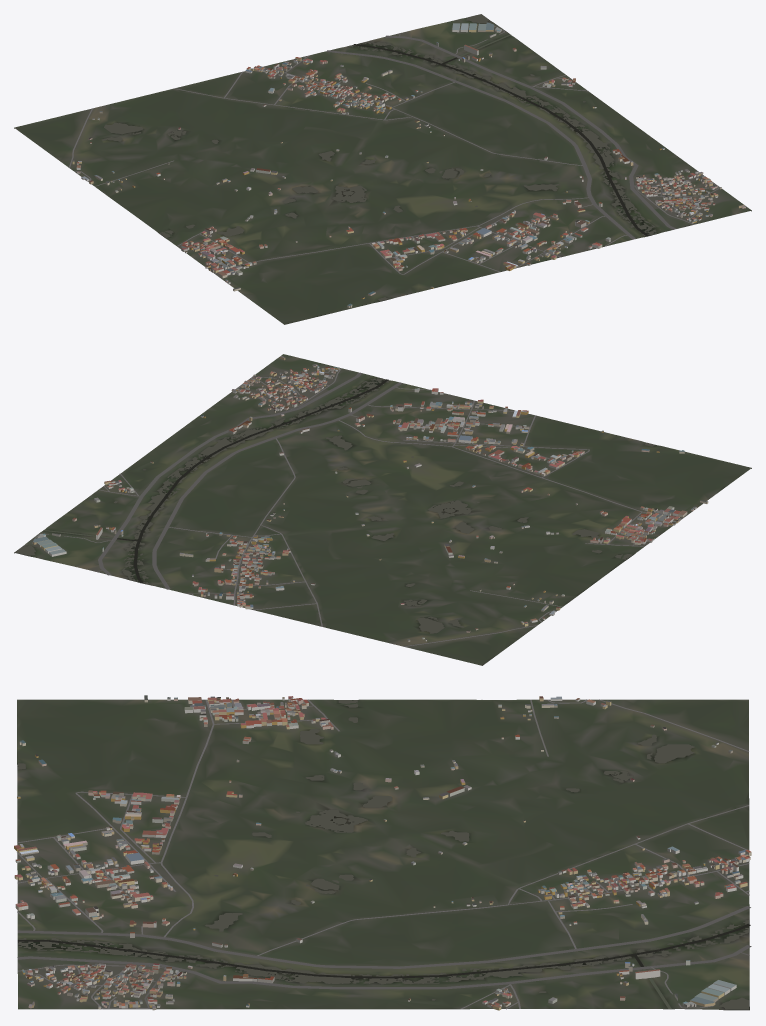
3 renders of one model, top to bottom at view 1: azimuth 30°, elevation 25°; view 2: azimuth 150°, elevation 25°; view 3: azimuth 270°, elevation 25°, orthographic. The views are drawn at different scales.
Parts seen in each view (by area): view 1: ground, buildings, water, roads; view 2: ground, buildings, water, roads; view 3: ground, buildings, water, roads.
Part boxes in pixels (x1=…): ground: x1=14, y1=16, x2=751, y2=324; buildings: x1=72, y1=22, x2=745, y2=307; water: x1=102, y1=14, x2=661, y2=301; roads: x1=69, y1=26, x2=719, y2=274; ground: x1=14, y1=354, x2=751, y2=665; buildings: x1=33, y1=356, x2=708, y2=641; water: x1=15, y1=377, x2=654, y2=633; roads: x1=32, y1=368, x2=682, y2=646; ground: x1=17, y1=699, x2=749, y2=1010; buildings: x1=14, y1=695, x2=751, y2=1010; water: x1=17, y1=700, x2=750, y2=1009; roads: x1=17, y1=699, x2=751, y2=1009.
Bounding box in the file's own units: 1418 × 18.63 × 1413.
